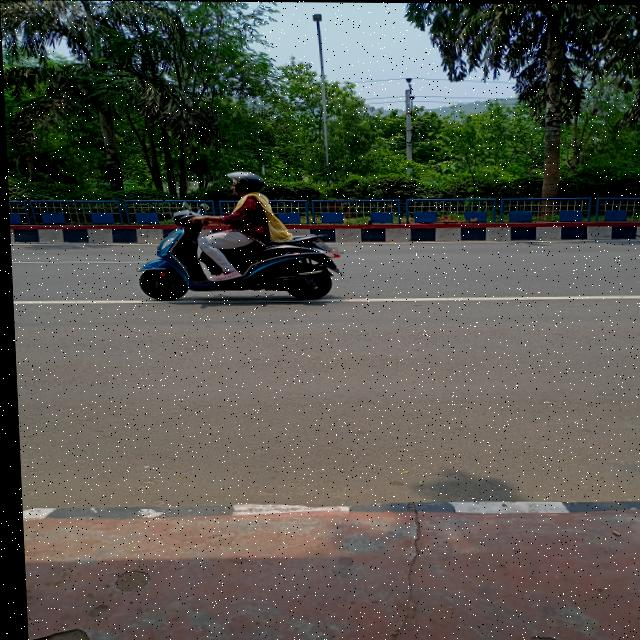bike: (134, 207, 337, 302)
